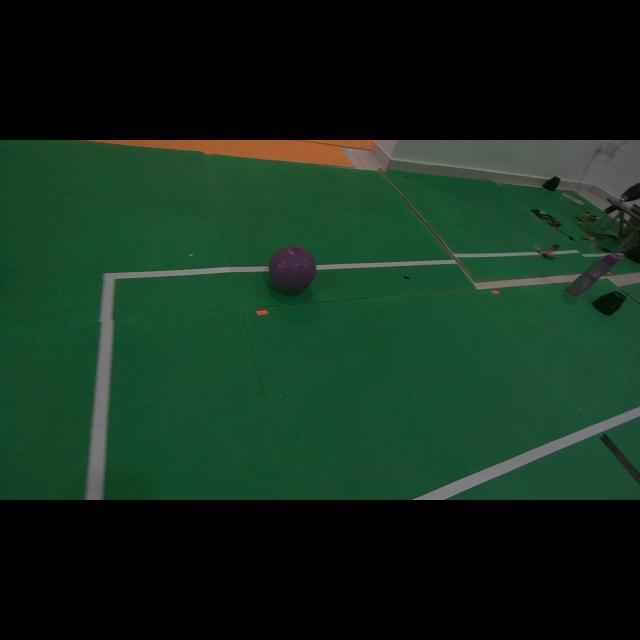P: (269, 246, 316, 292)
